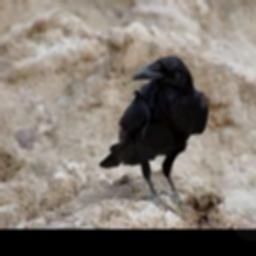Crow: (98, 54, 207, 209)
